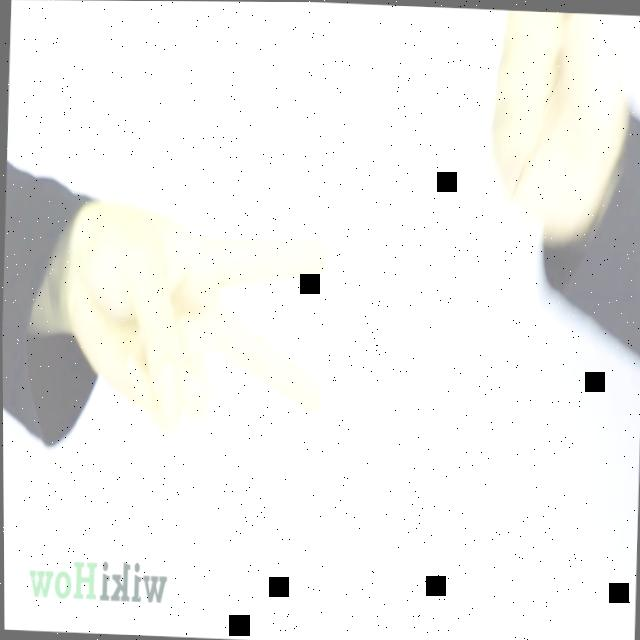Rock: (485, 8, 634, 235)
Scissors: (58, 194, 329, 443)
